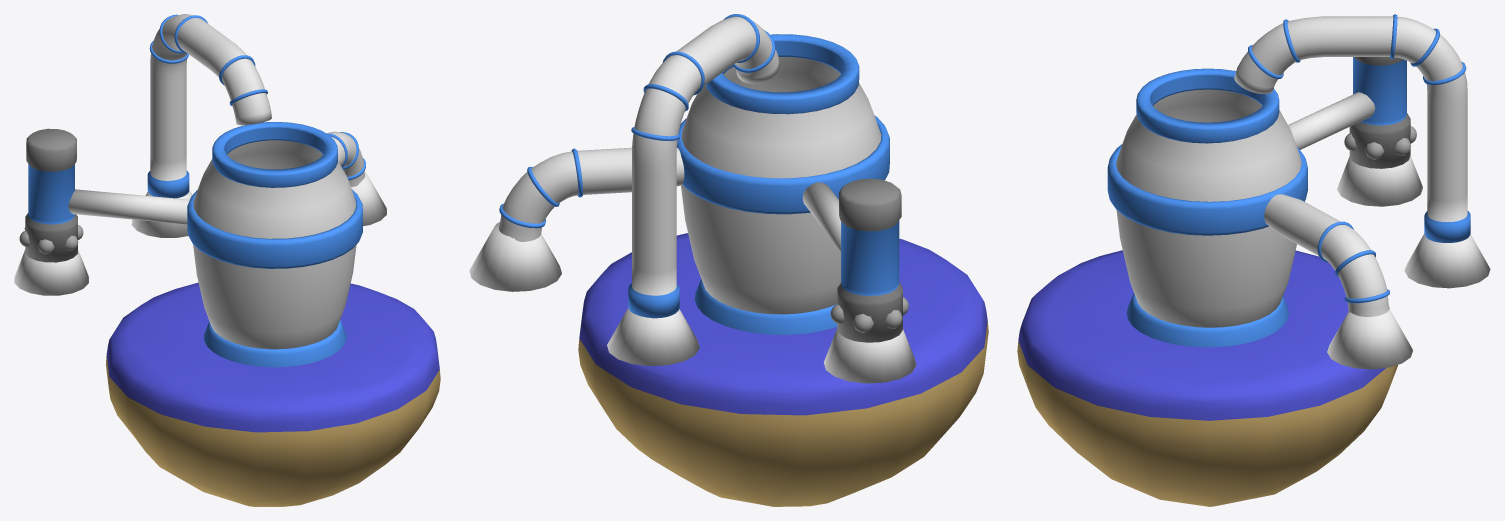
File: Lab.fbx
3 views of the same model, side by side, from view 1: azimuth 30°, elevation 25°; view 2: azimuth 150°, elevation 25°; view 3: azimuth 270°, elevation 25° (orthographic). The views are drawn at different scales.
Parts seen in each view (by area): view 1: Lab_Island, Lab_Mixer, Lab_PC, Lab_SB, Lab_Cacao; view 2: Lab_Island, Lab_Mixer, Lab_PC, Lab_SB, Lab_Cacao; view 3: Lab_Island, Lab_Mixer, Lab_PC, Lab_SB, Lab_Cacao.
Part boxes in pixels (x1,y1,x2,y2): Lab_Island: (106,282,440,506); Lab_Mixer: (187,122,362,367); Lab_PC: (131,14,271,237); Lab_SB: (14,128,189,295); Lab_Cacao: (326,131,386,225); Lab_Island: (578,233,988,506); Lab_Mixer: (677,34,889,334); Lab_PC: (607,14,779,366); Lab_SB: (802,178,916,383); Lab_Cacao: (469,147,684,291); Lab_Island: (1017,250,1397,506); Lab_Mixer: (1107,68,1307,347); Lab_PC: (1234,14,1490,288); Lab_SB: (1288,57,1422,206); Lab_Cacao: (1264,194,1413,369).
Bounding box in the file's own units: 32.23 × 35.89 × 32.36.
